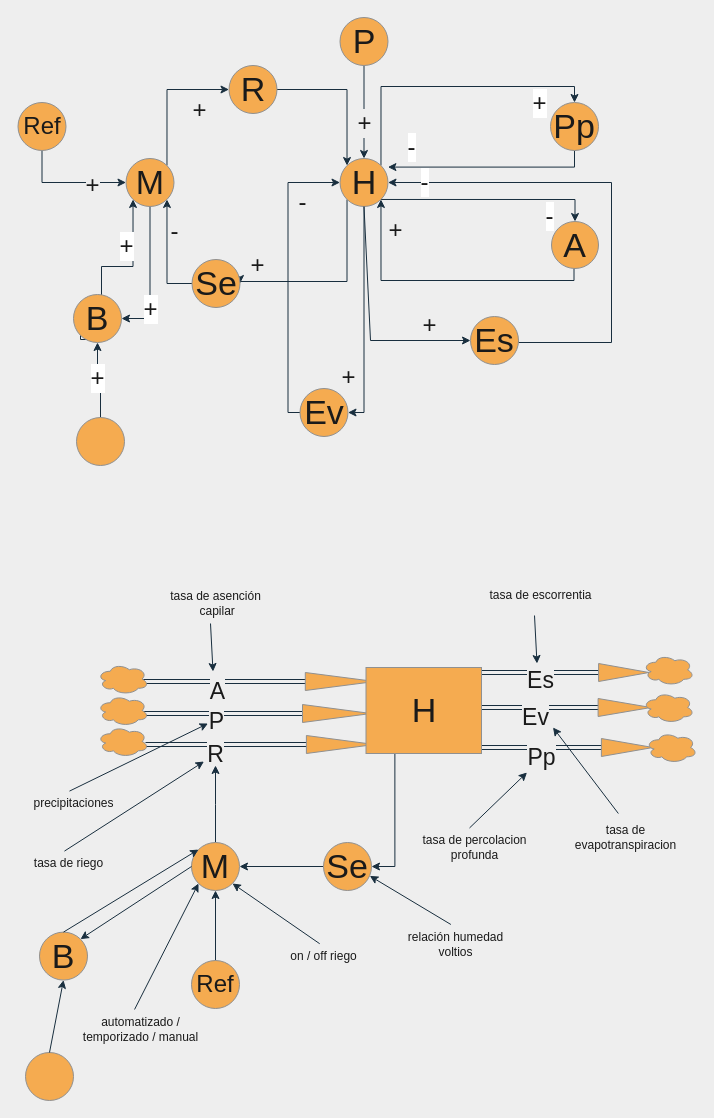
Image size: 714x1118. Some labels were removed from this diagram. The centre of each missing label's shape, as x and y in pixels:
Sa: (100,441)
Sat: (49,1076)
